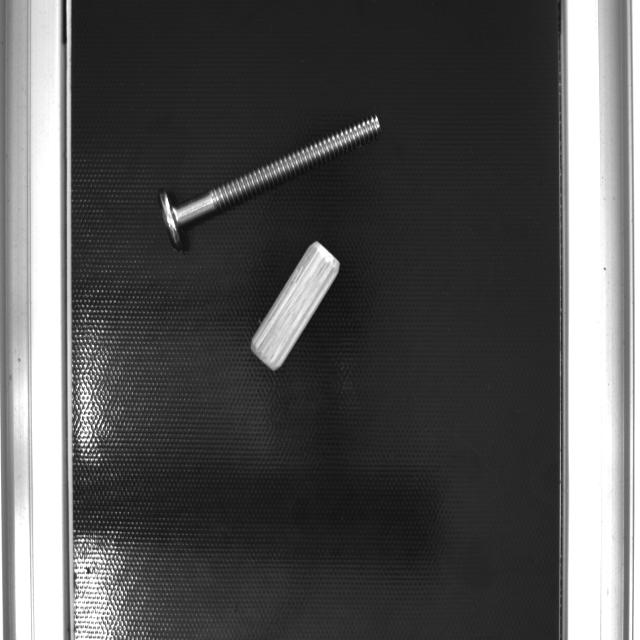Chot go: (246, 234, 344, 375)
bulon: (174, 111, 385, 229)
